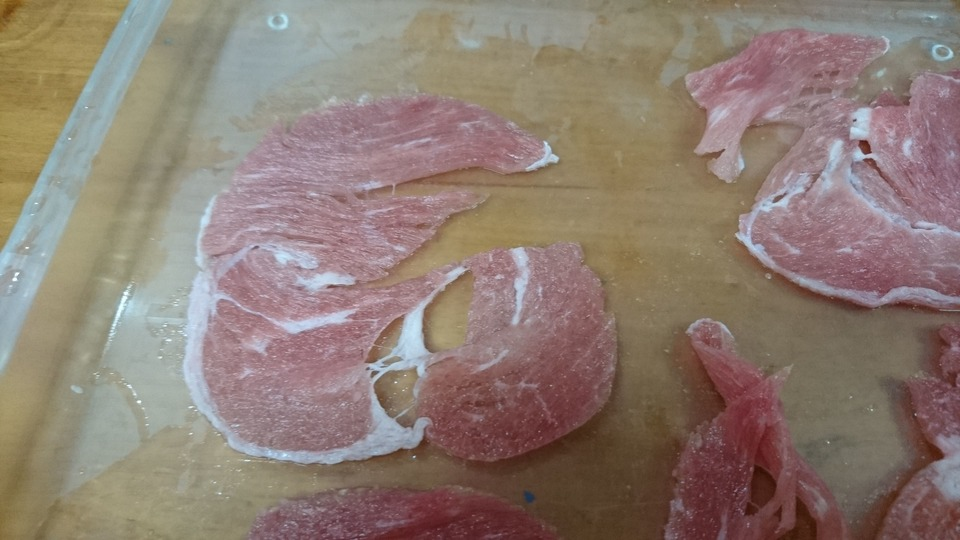restructured meat: (169, 95, 610, 454), (677, 30, 960, 313), (677, 322, 960, 535), (253, 482, 545, 533)
